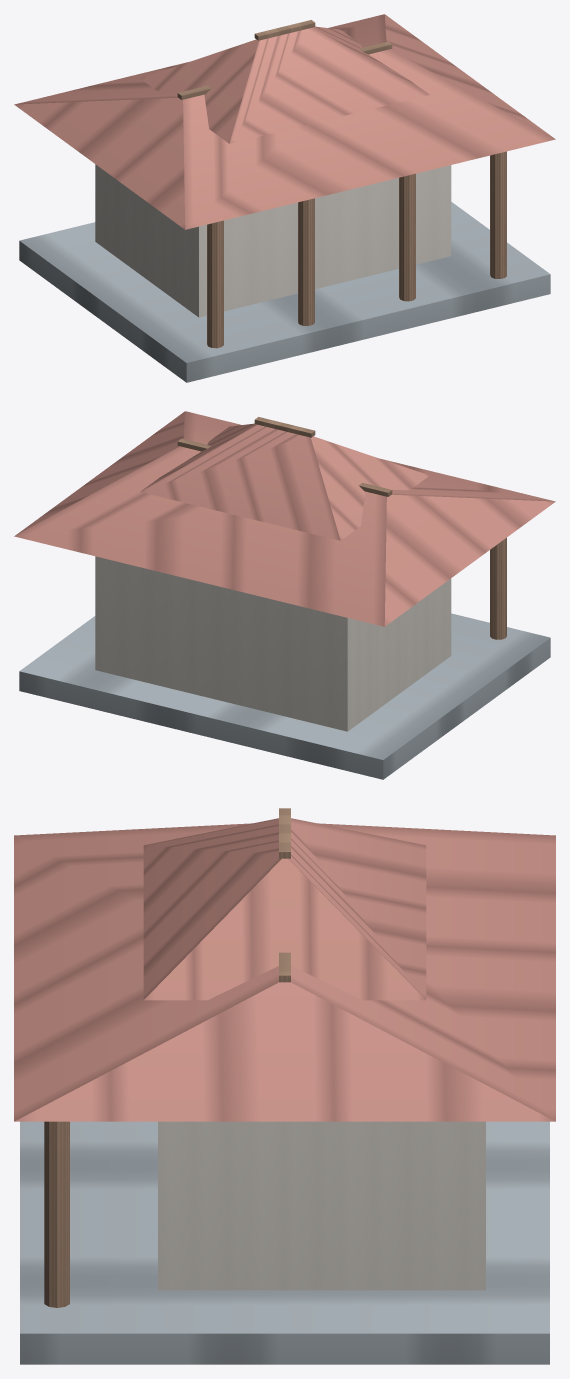
The model's file is community_hall.glb.
3 views of the same model, one above another, from view 1: azimuth 30°, elevation 25°; view 2: azimuth 150°, elevation 25°; view 3: azimuth 270°, elevation 25° (orthographic). The views are drawn at different scales.
Parts seen in each view (by area): view 1: community_hall; view 2: community_hall; view 3: community_hall.
Boxes of the visible parts, box(x1,y1,x2,y2) form: community_hall: box(14, 14, 555, 382); community_hall: box(14, 411, 555, 779); community_hall: box(14, 808, 555, 1364).
Bounding box in the file's own units: 11 × 7.06 × 8.8.
Materials: 1 (1 with a texture image).
